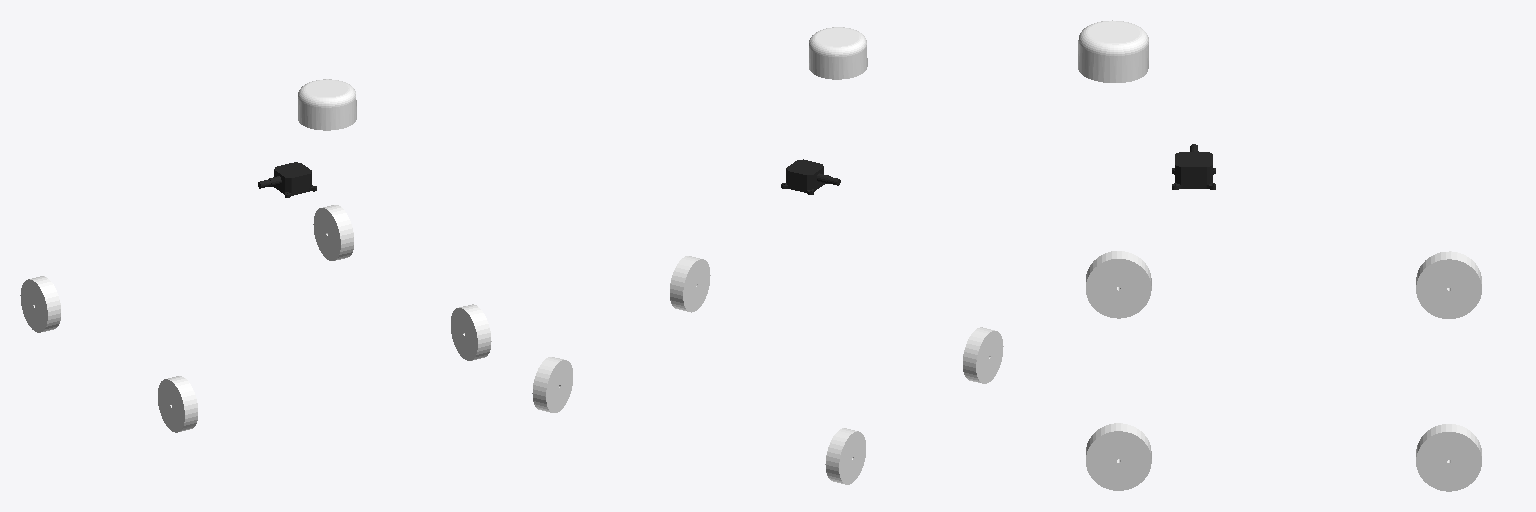
The robot description file, URDF, robot "23car_test4":
<?xml version="1.0" encoding="utf-8"?>
<!-- This URDF was automatically created by SolidWorks to URDF Exporter! Originally created by Stephen Brawner (brawner@gmail.com) 
     Commit Version: 1.6.0-4-g7f85cfe  Build Version: 1.6.7995.38578
     For more information, please see http://wiki.ros.org/sw_urdf_exporter -->
<robot
  name="23car_test4">
  <link
    name="zhengche">
    <inertial>
      <origin
        xyz="0.000242992066664532 -0.00653447053537559 0.110444365960748"
        rpy="0 0 0" />
      <mass
        value="14.5049759407965" />
      <inertia
        ixx="0.0489203579806679"
        ixy="4.20769710683532E-05"
        ixz="-6.95903600616511E-07"
        iyy="0.0488678386286656"
        iyz="0.000587582172115045"
        izz="0.0787028226185663" />
    </inertial>
    <visual>
      <origin
        xyz="0 0 0"
        rpy="0 0 0" />
      <geometry>
        <mesh
          filename="package://23car_test4/meshes/zhengche.STL" />
      </geometry>
      <material
        name="">
        <color
          rgba="1 1 1 1" />
      </material>
    </visual>
    <collision>
      <origin
        xyz="0 0 0"
        rpy="0 0 0" />
      <geometry>
        <mesh
          filename="package://23car_test4/meshes/zhengche.STL" />
      </geometry>
    </collision>
  </link>
  <link
    name="baibi1">
    <inertial>
      <origin
        xyz="-0.0145131403555471 0.152815765842152 0.0700063697256281"
        rpy="0 0 0" />
      <mass
        value="1.59994666091541" />
      <inertia
        ixx="0.0114572721968805"
        ixy="7.87969735488581E-08"
        ixz="3.61013921912426E-08"
        iyy="0.00301043169234694"
        iyz="-0.00325842658363855"
        izz="0.00863030834962193" />
    </inertial>
    <visual>
      <origin
        xyz="0 0 0"
        rpy="0 0 0" />
      <geometry>
        <mesh
          filename="package://23car_test4/meshes/baibi1.STL" />
      </geometry>
      <material
        name="">
        <color
          rgba="0.752941176470588 0.752941176470588 0.752941176470588 1" />
      </material>
    </visual>
    <collision>
      <origin
        xyz="0 0 0"
        rpy="0 0 0" />
      <geometry>
        <mesh
          filename="package://23car_test4/meshes/baibi1.STL" />
      </geometry>
    </collision>
  </link>
  <joint
    name="baibi1"
    type="continuous">
    <origin
      xyz="-0.2515 0.267109528305508 0.0649930169157672"
      rpy="1.5707963267949 0 3.14159265358979" />
    <parent
      link="zhengche" />
    <child
      link="baibi1" />
    <axis
      xyz="-1 0 0" />
  </joint>
  <link
    name="baibi2">
    <inertial>
      <origin
        xyz="-0.0145131411491585 0.136985925671935 -0.0974084506497851"
        rpy="0 0 0" />
      <mass
        value="1.59994666091541" />
      <inertia
        ixx="0.0114572721968805"
        ixy="7.06378145037426E-08"
        ixz="-5.02252198632069E-08"
        iyy="0.00440756954506309"
        iyz="0.00406412254083762"
        izz="0.00723317049690598" />
    </inertial>
    <visual>
      <origin
        xyz="0 0 0"
        rpy="0 0 0" />
      <geometry>
        <mesh
          filename="package://23car_test4/meshes/baibi2.STL" />
      </geometry>
      <material
        name="">
        <color
          rgba="0.752941176470588 0.752941176470588 0.752941176470588 1" />
      </material>
    </visual>
    <collision>
      <origin
        xyz="0 0 0"
        rpy="0 0 0" />
      <geometry>
        <mesh
          filename="package://23car_test4/meshes/baibi2.STL" />
      </geometry>
    </collision>
  </link>
  <joint
    name="baibi2"
    type="continuous">
    <origin
      xyz="-0.249000000000455 -0.266889266928036 0.0661273337114438"
      rpy="1.5707963267949 0 3.14159265358979" />
    <parent
      link="zhengche" />
    <child
      link="baibi2" />
    <axis
      xyz="-1 0 0" />
  </joint>
  <link
    name="baibi3">
    <inertial>
      <origin
        xyz="0.0145131403555436 0.150438448033176 0.0749788199663907"
        rpy="0 0 0" />
      <mass
        value="1.59994666091558" />
      <inertia
        ixx="0.0114572721968805"
        ixy="-7.75740604766822E-08"
        ixz="-3.8659264017305E-08"
        iyy="0.00322990854334353"
        iyz="-0.00343549218374419"
        izz="0.00841083149862512" />
    </inertial>
    <visual>
      <origin
        xyz="0 0 0"
        rpy="0 0 0" />
      <geometry>
        <mesh
          filename="package://23car_test4/meshes/baibi3.STL" />
      </geometry>
      <material
        name="">
        <color
          rgba="0.752941176470588 0.752941176470588 0.752941176470588 1" />
      </material>
    </visual>
    <collision>
      <origin
        xyz="0 0 0"
        rpy="0 0 0" />
      <geometry>
        <mesh
          filename="package://23car_test4/meshes/baibi3.STL" />
      </geometry>
    </collision>
  </link>
  <joint
    name="baibi3"
    type="continuous">
    <origin
      xyz="0.251499999999997 0.267109528305623 0.064993016915769"
      rpy="1.5707963267949 0 -3.14159265358979" />
    <parent
      link="zhengche" />
    <child
      link="baibi3" />
    <axis
      xyz="1 0 0" />
  </joint>
  <link
    name="baibi4">
    <inertial>
      <origin
        xyz="0.0145131403555152 0.136832435577331 -0.097623945136837"
        rpy="0 0 0" />
      <mass
        value="1.59994666091772" />
      <inertia
        ixx="0.0114572721968805"
        ixy="-7.05547210990607E-08"
        ixz="5.03418800253557E-08"
        iyy="0.00442049439343818"
        iyz="0.00406859256243609"
        izz="0.00722024564853093" />
    </inertial>
    <visual>
      <origin
        xyz="0 0 0"
        rpy="0 0 0" />
      <geometry>
        <mesh
          filename="package://23car_test4/meshes/baibi4.STL" />
      </geometry>
      <material
        name="">
        <color
          rgba="0.752941176470588 0.752941176470588 0.752941176470588 1" />
      </material>
    </visual>
    <collision>
      <origin
        xyz="0 0 0"
        rpy="0 0 0" />
      <geometry>
        <mesh
          filename="package://23car_test4/meshes/baibi4.STL" />
      </geometry>
    </collision>
  </link>
  <joint
    name="baibi4"
    type="continuous">
    <origin
      xyz="0.251499999999997 -0.266889266941522 0.0661273337114879"
      rpy="1.5707963267949 0 -3.14159265358979" />
    <parent
      link="zhengche" />
    <child
      link="baibi4" />
    <axis
      xyz="1 0 0" />
  </joint>
  <link
    name="wheel1">
    <inertial>
      <origin
        xyz="-7.41767758327683E-15 -2.90323320939478E-14 1.36025357644343E-11"
        rpy="0 0 0" />
      <mass
        value="0.0766649138440825" />
      <inertia
        ixx="4.71427888210032E-05"
        ixy="1.62546205140122E-21"
        ixz="5.18152225724961E-22"
        iyy="2.61268915386377E-05"
        iyz="-1.36818689078923E-21"
        izz="2.61268915386377E-05" />
    </inertial>
    <visual>
      <origin
        xyz="0 0 0"
        rpy="0 0 0" />
      <geometry>
        <mesh
          filename="package://23car_test4/meshes/wheel1.STL" />
      </geometry>
      <material
        name="">
        <color
          rgba="1 1 1 1" />
      </material>
    </visual>
    <collision>
      <origin
        xyz="0 0 0"
        rpy="0 0 0" />
      <geometry>
        <mesh
          filename="package://23car_test4/meshes/wheel1.STL" />
      </geometry>
    </collision>
  </link>
  <joint
    name="wheel1"
    type="continuous">
    <origin
      xyz="-0.216000000000004 0.174999278050617 0.0131885595980792"
      rpy="1.5707963267949 0 3.14159265358979" />
    <parent
      link="zhengche" />
    <child
      link="wheel1" />
    <axis
      xyz="-1 0 0" />
  </joint>
  <link
    name="wheel2">
    <inertial>
      <origin
        xyz="-7.38298311375729E-15 -2.68118860446975E-14 1.36023969865562E-11"
        rpy="0 0 0" />
      <mass
        value="0.0766649138440825" />
      <inertia
        ixx="4.71427888210032E-05"
        ixy="1.66316272213357E-21"
        ixz="4.10529981541107E-22"
        iyy="2.61268915386377E-05"
        iyz="-3.02539962718674E-22"
        izz="2.61268915386377E-05" />
    </inertial>
    <visual>
      <origin
        xyz="0 0 0"
        rpy="0 0 0" />
      <geometry>
        <mesh
          filename="package://23car_test4/meshes/wheel2.STL" />
      </geometry>
      <material
        name="">
        <color
          rgba="1 1 1 1" />
      </material>
    </visual>
    <collision>
      <origin
        xyz="0 0 0"
        rpy="0 0 0" />
      <geometry>
        <mesh
          filename="package://23car_test4/meshes/wheel2.STL" />
      </geometry>
    </collision>
  </link>
  <joint
    name="wheel2"
    type="continuous">
    <origin
      xyz="-0.216000000000004 -0.174999932317364 0.0139320256626821"
      rpy="1.5707963267949 0 3.14159265358979" />
    <parent
      link="zhengche" />
    <child
      link="wheel2" />
    <axis
      xyz="-1 0 0" />
  </joint>
  <link
    name="wheel3">
    <inertial>
      <origin
        xyz="-5.55111512312578E-17 5.55111512312578E-17 0"
        rpy="0 0 0" />
      <mass
        value="0.0766649138440825" />
      <inertia
        ixx="4.71427888210033E-05"
        ixy="1.44315563663137E-21"
        ixz="1.38136987148034E-22"
        iyy="2.61268915386377E-05"
        iyz="2.80031590558142E-35"
        izz="2.61268915386377E-05" />
    </inertial>
    <visual>
      <origin
        xyz="0 0 0"
        rpy="0 0 0" />
      <geometry>
        <mesh
          filename="package://23car_test4/meshes/wheel3.STL" />
      </geometry>
      <material
        name="">
        <color
          rgba="1 1 1 1" />
      </material>
    </visual>
    <collision>
      <origin
        xyz="0 0 0"
        rpy="0 0 0" />
      <geometry>
        <mesh
          filename="package://23car_test4/meshes/wheel3.STL" />
      </geometry>
    </collision>
  </link>
  <joint
    name="wheel3"
    type="continuous">
    <origin
      xyz="0.215999999999997 0.174999278050727 0.013188559598079"
      rpy="1.5707963267949 0 -3.14159265358979" />
    <parent
      link="zhengche" />
    <child
      link="wheel3" />
    <axis
      xyz="1 0 0" />
  </joint>
  <link
    name="wheel4">
    <inertial>
      <origin
        xyz="5.55111512312578E-17 4.67321526326225E-06 -0.00219999503659868"
        rpy="0 0 0" />
      <mass
        value="0.0766649138440825" />
      <inertia
        ixx="4.71427888210033E-05"
        ixy="1.55972120514441E-21"
        ixz="-7.82752645264428E-22"
        iyy="2.61268915386377E-05"
        iyz="5.24888319341997E-21"
        izz="2.61268915386377E-05" />
    </inertial>
    <visual>
      <origin
        xyz="0 0 0"
        rpy="0 0 0" />
      <geometry>
        <mesh
          filename="package://23car_test4/meshes/wheel4.STL" />
      </geometry>
      <material
        name="">
        <color
          rgba="1 1 1 1" />
      </material>
    </visual>
    <collision>
      <origin
        xyz="0 0 0"
        rpy="0 0 0" />
      <geometry>
        <mesh
          filename="package://23car_test4/meshes/wheel4.STL" />
      </geometry>
    </collision>
  </link>
  <joint
    name="wheel4"
    type="continuous">
    <origin
      xyz="0.215999999999997 -0.172799937280656 0.0139273524474186"
      rpy="1.5707963267949 0 -3.14159265358979" />
    <parent
      link="zhengche" />
    <child
      link="wheel4" />
    <axis
      xyz="1 0 0" />
  </joint>
  <link
    name="IMU">
    <inertial>
      <origin
        xyz="0.0019263 -0.012533 -5.5511E-17"
        rpy="0 0 0" />
      <mass
        value="0.041404" />
      <inertia
        ixx="7.1879E-06"
        ixy="-2.4188E-07"
        ixz="-5.7834E-21"
        iyy="1.2823E-05"
        iyz="-1.0153E-21"
        izz="9.8649E-06" />
    </inertial>
    <visual>
      <origin
        xyz="0 0 0"
        rpy="0 0 0" />
      <geometry>
        <mesh
          filename="package://23car_test4/meshes/IMU.STL" />
      </geometry>
      <material
        name="">
        <color
          rgba="0.2 0.2 0.2 1" />
      </material>
    </visual>
    <collision>
      <origin
        xyz="0 0 0"
        rpy="0 0 0" />
      <geometry>
        <mesh
          filename="package://23car_test4/meshes/IMU.STL" />
      </geometry>
    </collision>
  </link>
  <joint
    name="IMU"
    type="fixed">
    <origin
      xyz="0 -0.095 0.261"
      rpy="1.5708 0 3.1416" />
    <parent
      link="zhengche" />
    <child
      link="IMU" />
    <axis
      xyz="0 0 0" />
  </joint>
  <link
    name="radar">
    <inertial>
      <origin
        xyz="0 0.004508 0"
        rpy="0 0 0" />
      <mass
        value="0.1808" />
      <inertia
        ixx="8.7802E-05"
        ixy="3.1032E-21"
        ixz="-1.5119E-20"
        iyy="0.0001245"
        iyz="-8.4703E-22"
        izz="8.7802E-05" />
    </inertial>
    <visual>
      <origin
        xyz="0 0 0"
        rpy="0 0 0" />
      <geometry>
        <mesh
          filename="package://23car_test4/meshes/radar.STL" />
      </geometry>
      <material
        name="">
        <color
          rgba="1 1 1 1" />
      </material>
    </visual>
    <collision>
      <origin
        xyz="0 0 0"
        rpy="0 0 0" />
      <geometry>
        <mesh
          filename="package://23car_test4/meshes/radar.STL" />
      </geometry>
    </collision>
  </link>
  <joint
    name="radar"
    type="fixed">
    <origin
      xyz="0.00083897 -0.18046 0.38393"
      rpy="1.5925 -0.0032179 3.1415" />
    <parent
      link="zhengche" />
    <child
      link="radar" />
    <axis
      xyz="0 0 0" />
  </joint>
  <link
    name="aobizhongguang">
    <inertial>
      <origin
        xyz="3.8997E-10 -4.5946E-11 0.018486"
        rpy="0 0 0" />
      <mass
        value="0.22447" />
      <inertia
        ixx="5.0782E-05"
        ixy="2.4278E-13"
        ixz="-3.0018E-12"
        iyy="0.00058009"
        iyz="3.6208E-13"
        izz="0.00057281" />
    </inertial>
    <visual>
      <origin
        xyz="0 0 0"
        rpy="0 0 0" />
      <geometry>
        <mesh
          filename="package://23car_test4/meshes/aobizhongguang.STL" />
      </geometry>
      <material
        name="">
        <color
          rgba="0.79216 0.81961 0.93333 1" />
      </material>
    </visual>
    <collision>
      <origin
        xyz="0 0 0"
        rpy="0 0 0" />
      <geometry>
        <mesh
          filename="package://23car_test4/meshes/aobizhongguang.STL" />
      </geometry>
    </collision>
  </link>
  <joint
    name="aobizhongguang"
    type="fixed">
    <origin
      xyz="0 -0.308 0.228"
      rpy="1.5708 0 3.1416" />
    <parent
      link="zhengche" />
    <child
      link="aobizhongguang" />
    <axis
      xyz="0 0 0" />
  </joint>
</robot>

--- Render facts (derived) ---
The picture shows the robot from 3 angles, left to right: view 1: azimuth 30°, elevation 25°; view 2: azimuth 150°, elevation 25°; view 3: azimuth 270°, elevation 25°; orthographic projection.
Robot: 23car_test4 — 12 links, 11 joints (8 continuous, 3 fixed); root link zhengche; default pose: every joint at zero.
Links seen in each view (by area): view 1: radar, wheel4, wheel2, wheel3, wheel1, IMU; view 2: radar, wheel4, wheel3, wheel2, wheel1, IMU; view 3: radar, wheel3, wheel4, wheel1, wheel2, IMU.
Boxes of the visible links, left/top/right/bottom form: radar: left=298, top=79, right=356, bottom=130; wheel4: left=451, top=304, right=491, bottom=360; wheel2: left=158, top=376, right=197, bottom=432; wheel3: left=313, top=205, right=353, bottom=260; wheel1: left=20, top=276, right=60, bottom=332; IMU: left=258, top=162, right=316, bottom=197; radar: left=809, top=27, right=867, bottom=79; wheel4: left=670, top=256, right=710, bottom=312; wheel3: left=532, top=357, right=572, bottom=412; wheel2: left=963, top=327, right=1003, bottom=383; wheel1: left=825, top=428, right=865, bottom=484; IMU: left=781, top=159, right=840, bottom=194; radar: left=1078, top=20, right=1148, bottom=82; wheel3: left=1416, top=424, right=1481, bottom=491; wheel4: left=1086, top=423, right=1151, bottom=490; wheel1: left=1416, top=251, right=1481, bottom=318; wheel2: left=1086, top=251, right=1151, bottom=318; IMU: left=1172, top=144, right=1215, bottom=189.
Size in the robot's own frame: 0.452 by 0.4282 by 0.4323 metres.
Meshes: 12 distinct files referenced, 6 mesh visuals loaded (6 binary STL); not drawn: 6 (reference not matched to a file when rendering).
